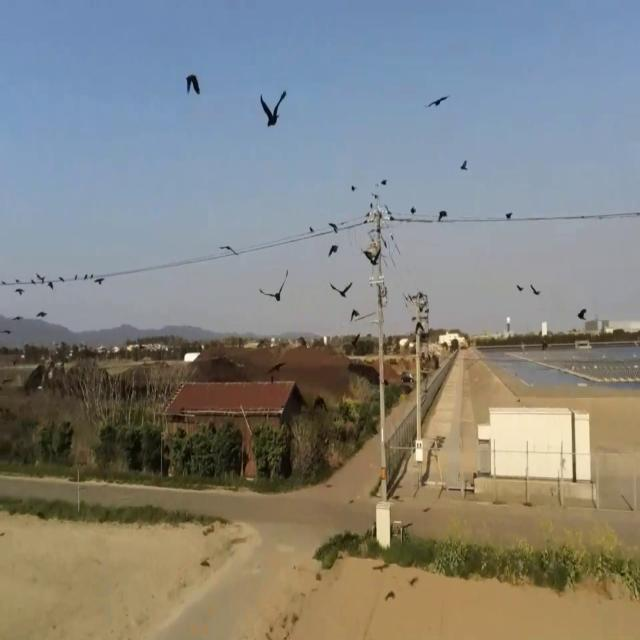bird: (260, 86, 286, 136), (261, 268, 288, 312), (332, 275, 352, 307), (186, 65, 200, 105), (429, 87, 448, 115), (364, 242, 381, 273), (220, 238, 237, 264), (328, 238, 339, 262), (438, 202, 448, 226), (577, 301, 587, 324), (530, 280, 540, 301), (94, 271, 105, 290), (351, 303, 359, 328), (460, 155, 468, 175), (506, 206, 512, 224), (48, 277, 54, 294), (351, 180, 356, 196), (309, 223, 314, 238), (84, 270, 88, 283)
